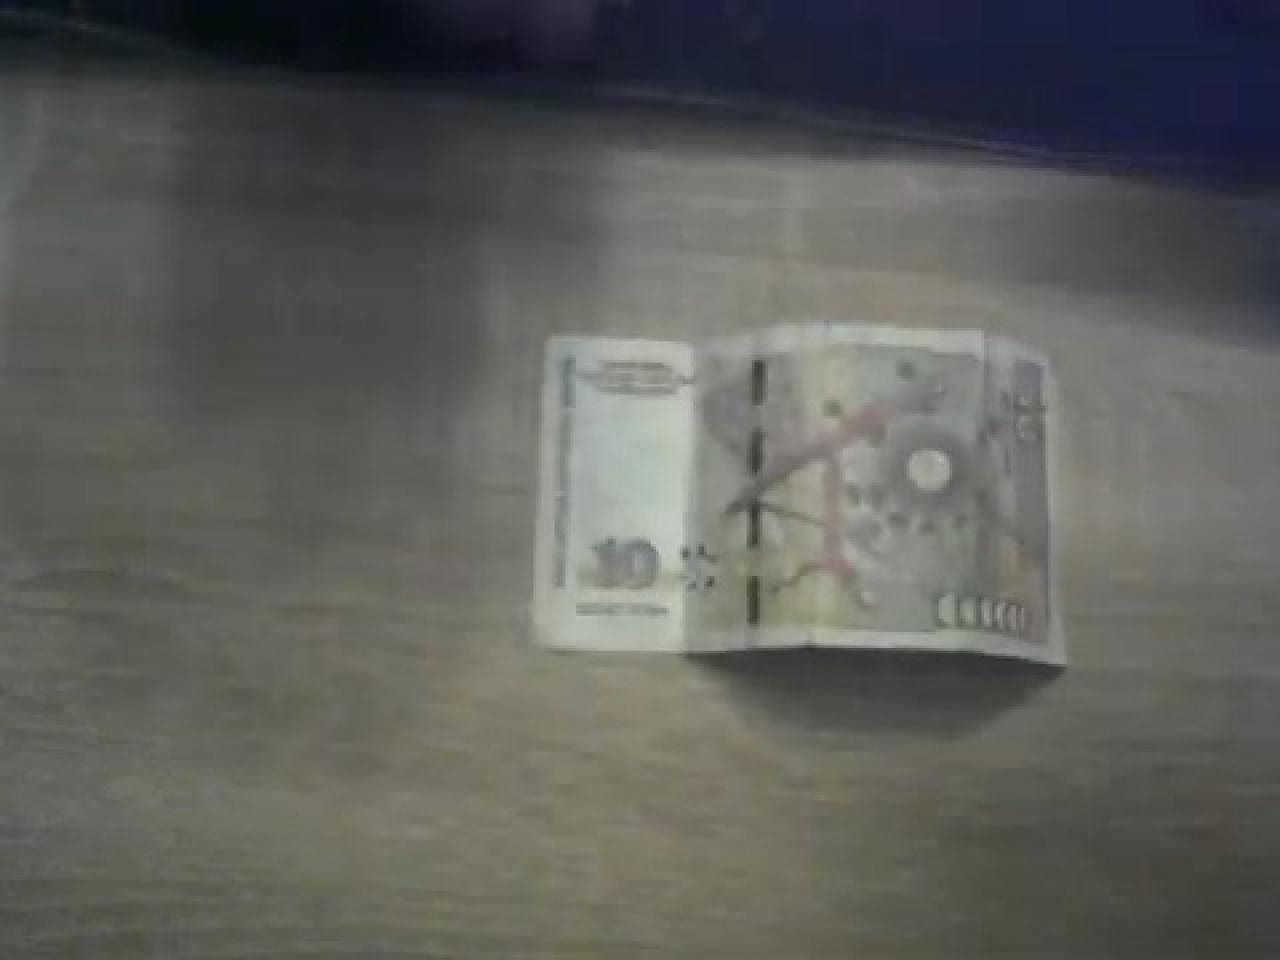10leva: (531, 323, 1064, 678)
